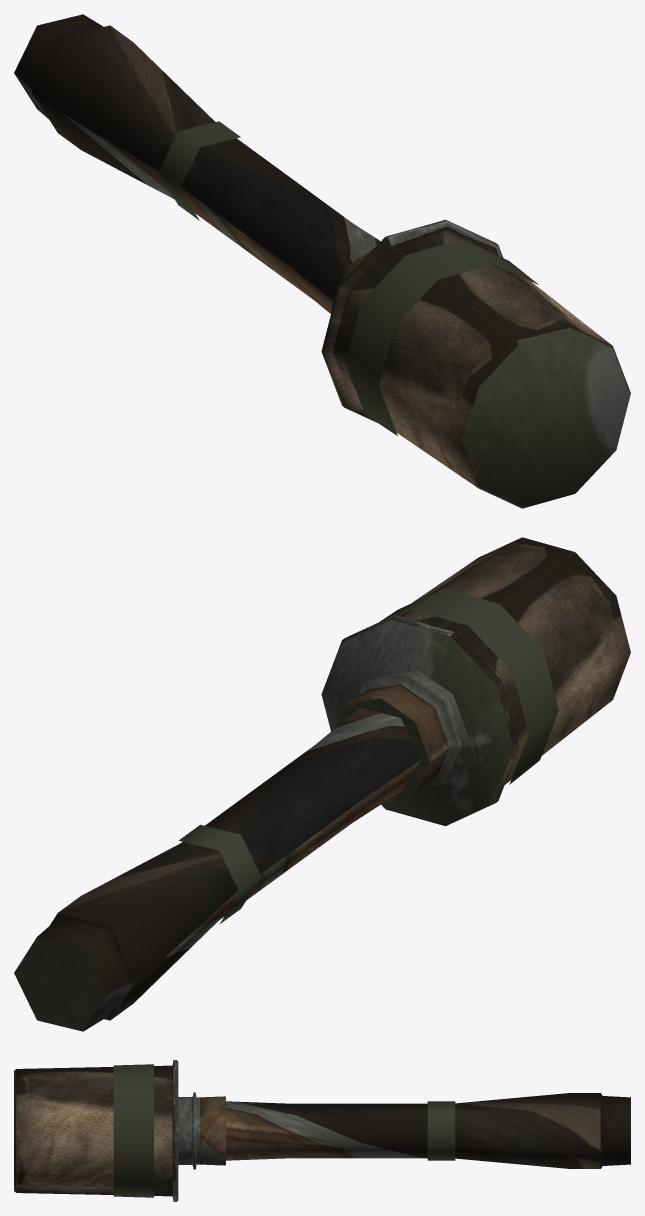
Rendered from weapon_nb39_smokegrenade.glb.
The picture shows the model from 3 angles, top to bottom: view 1: azimuth 30°, elevation 25°; view 2: azimuth 150°, elevation 25°; view 3: azimuth 270°, elevation 25°; orthographic projection. The views are drawn at different scales.
Bounding box in the file's own units: 2.75 × 2.65 × 11.93.
1 material, 1 textured.
